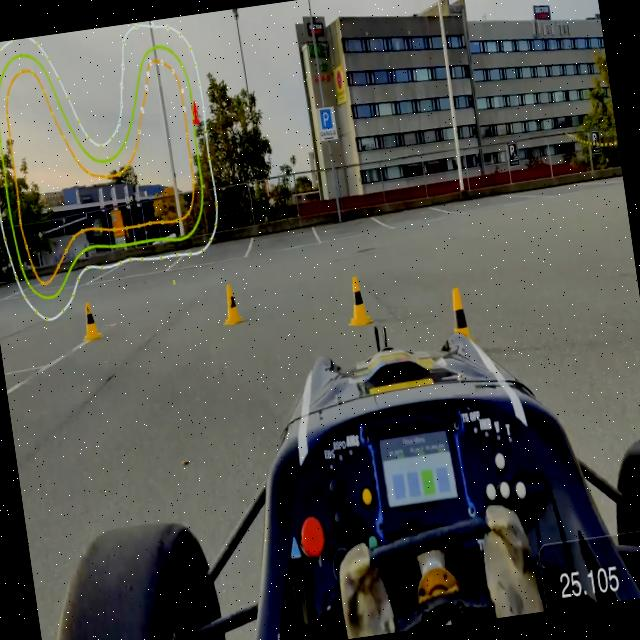yellow_cone: (341, 272, 374, 330), (77, 294, 106, 346), (216, 280, 246, 328), (625, 344, 640, 440), (446, 285, 472, 336)
